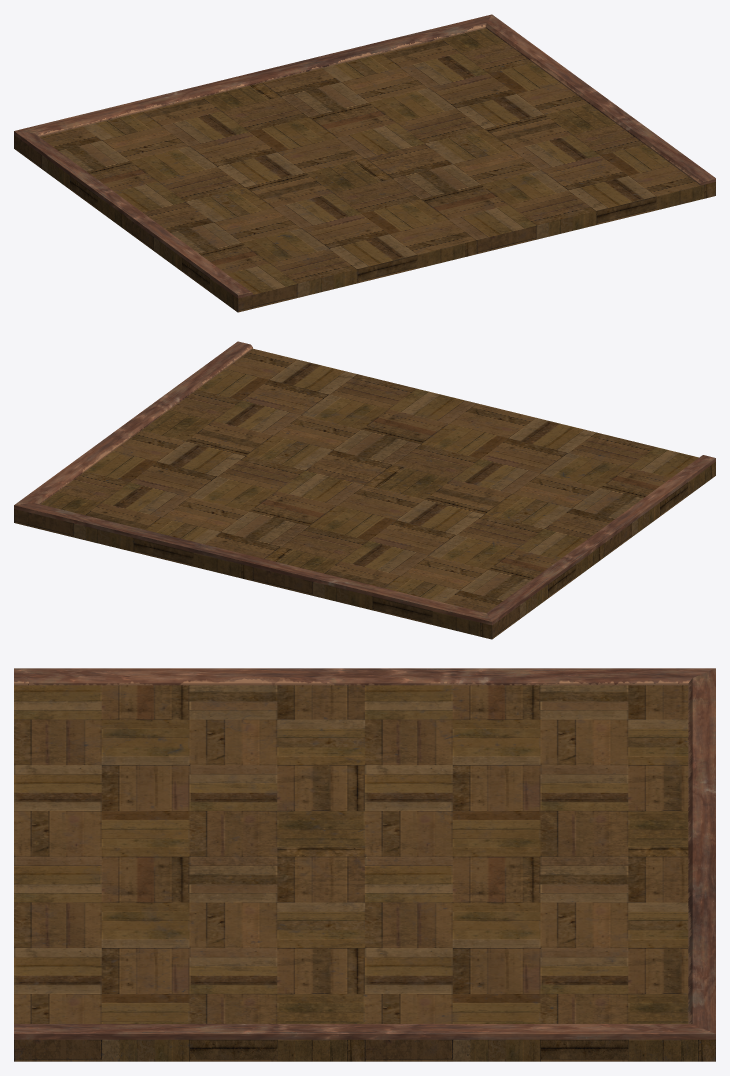
File: Kit_RusticFloorBorder01.fbx
The picture shows the model from 3 angles, top to bottom: view 1: azimuth 30°, elevation 25°; view 2: azimuth 150°, elevation 25°; view 3: azimuth 270°, elevation 25°; orthographic projection. The views are drawn at different scales.
Visible parts, largest first — view 1: Kit_RusticFloorBorder01; view 2: Kit_RusticFloorBorder01; view 3: Kit_RusticFloorBorder01.
Part boxes in pixels (<box>): Kit_RusticFloorBorder01: <box>14,14,715,312</box>; Kit_RusticFloorBorder01: <box>14,341,715,639</box>; Kit_RusticFloorBorder01: <box>14,668,715,1061</box>.
Bounding box in the file's own units: 139 × 4.94 × 113.
